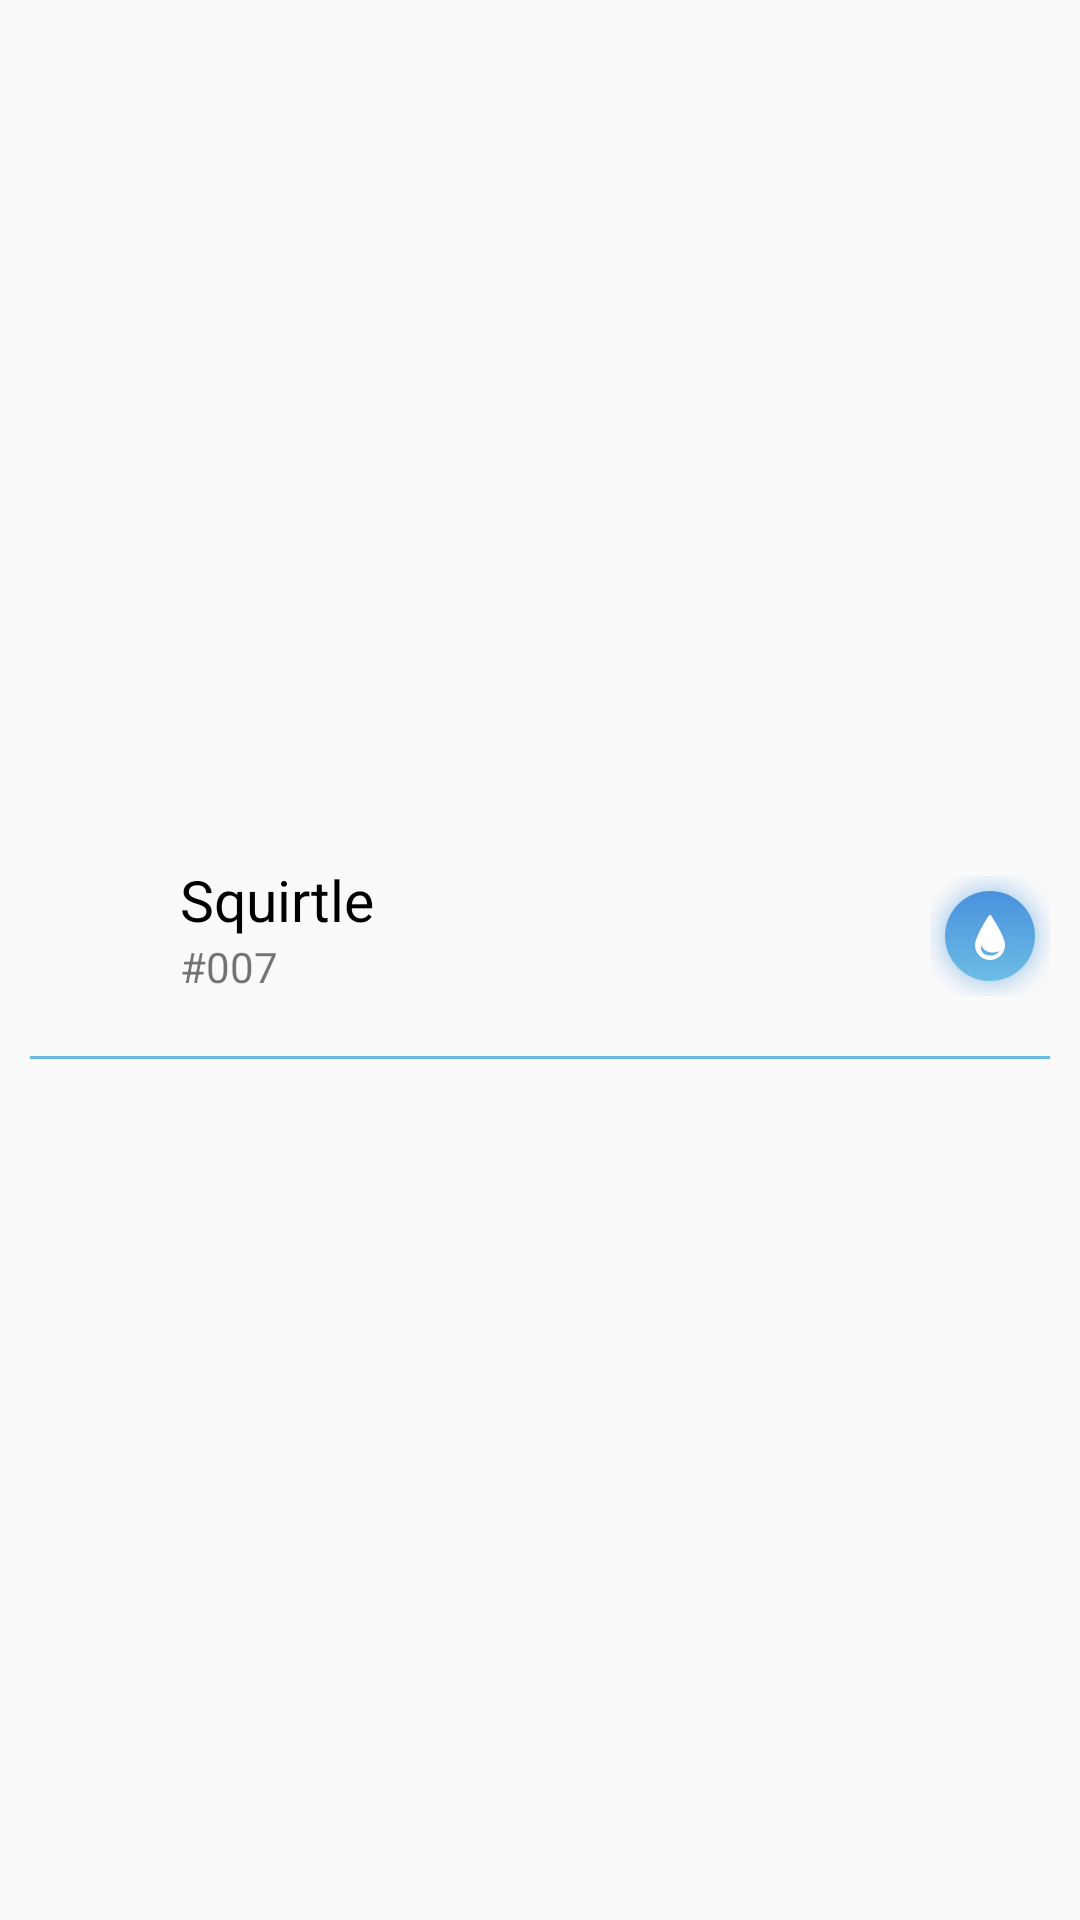

Named icons in this screenshot (1080x1920) and their centers, (x,y):
type water: (990,936)
